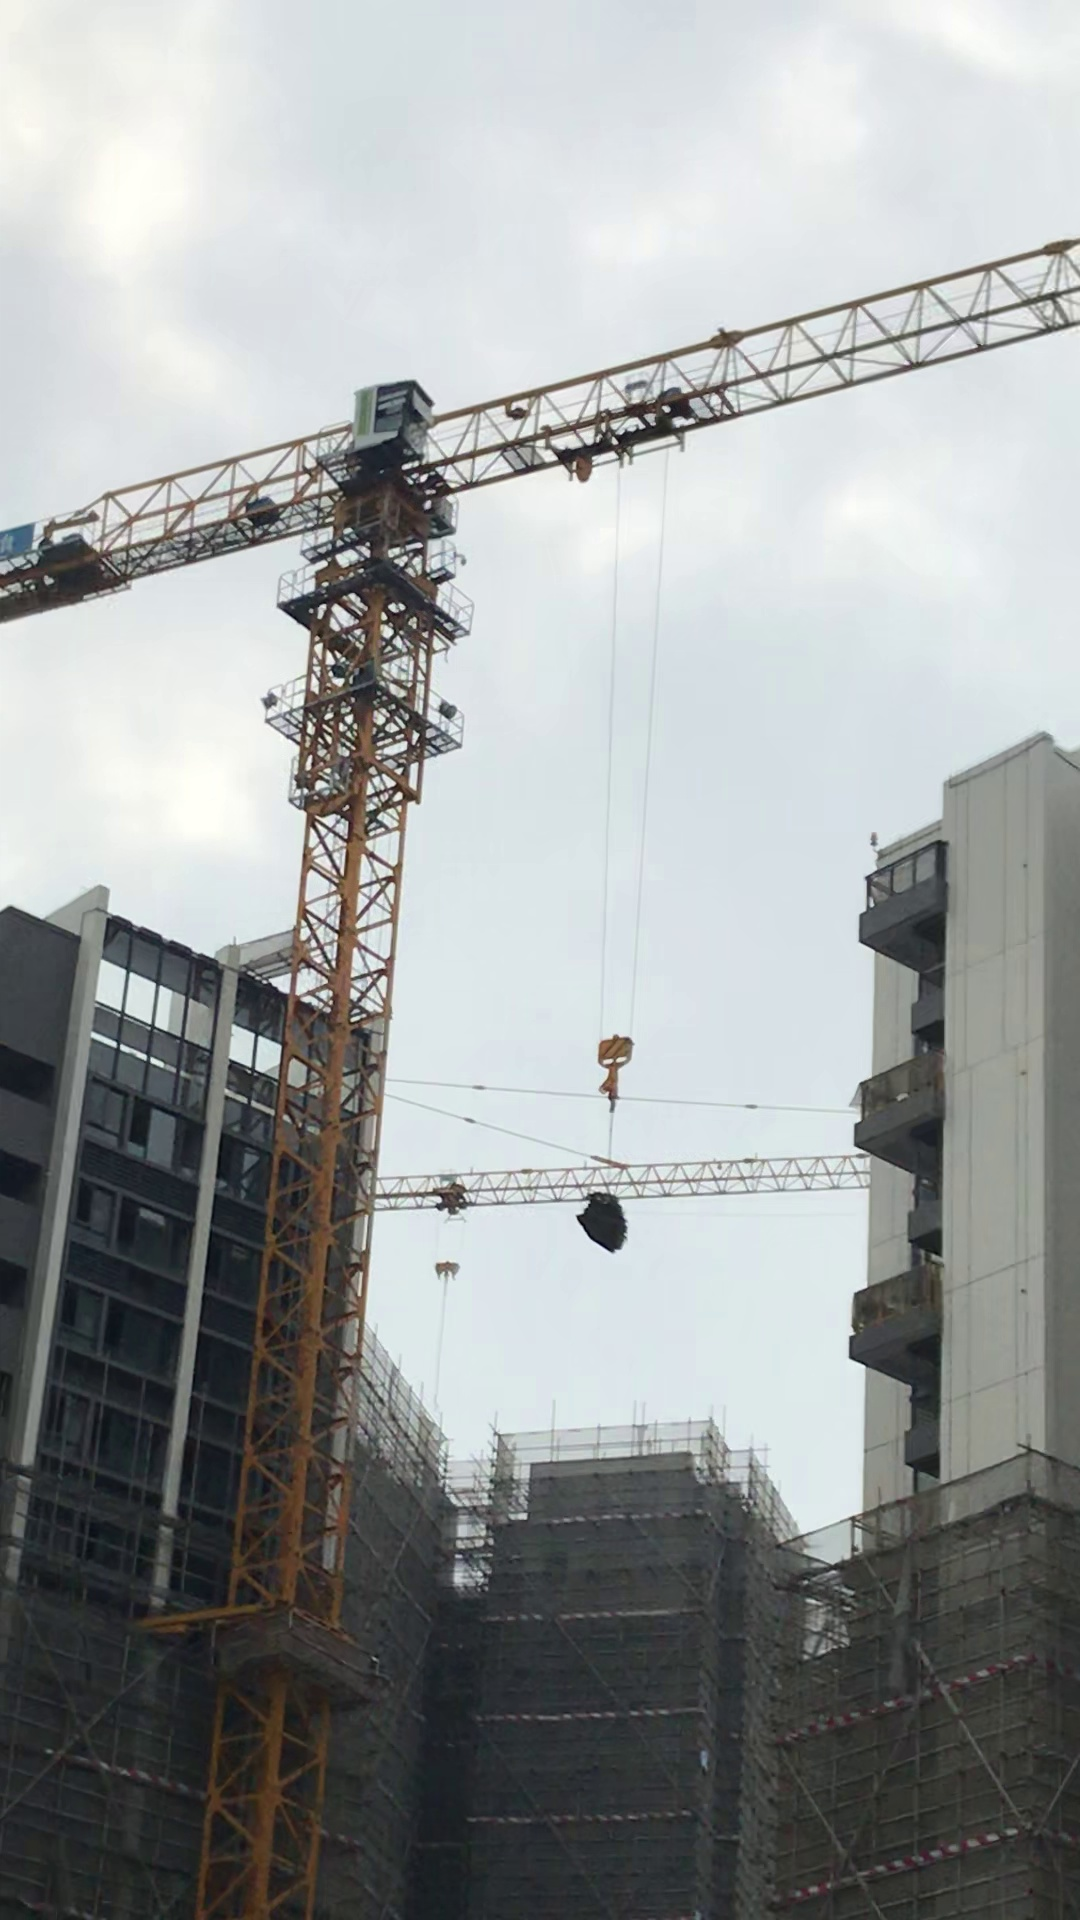hook: (574, 1015, 665, 1109), (433, 1251, 465, 1280)
